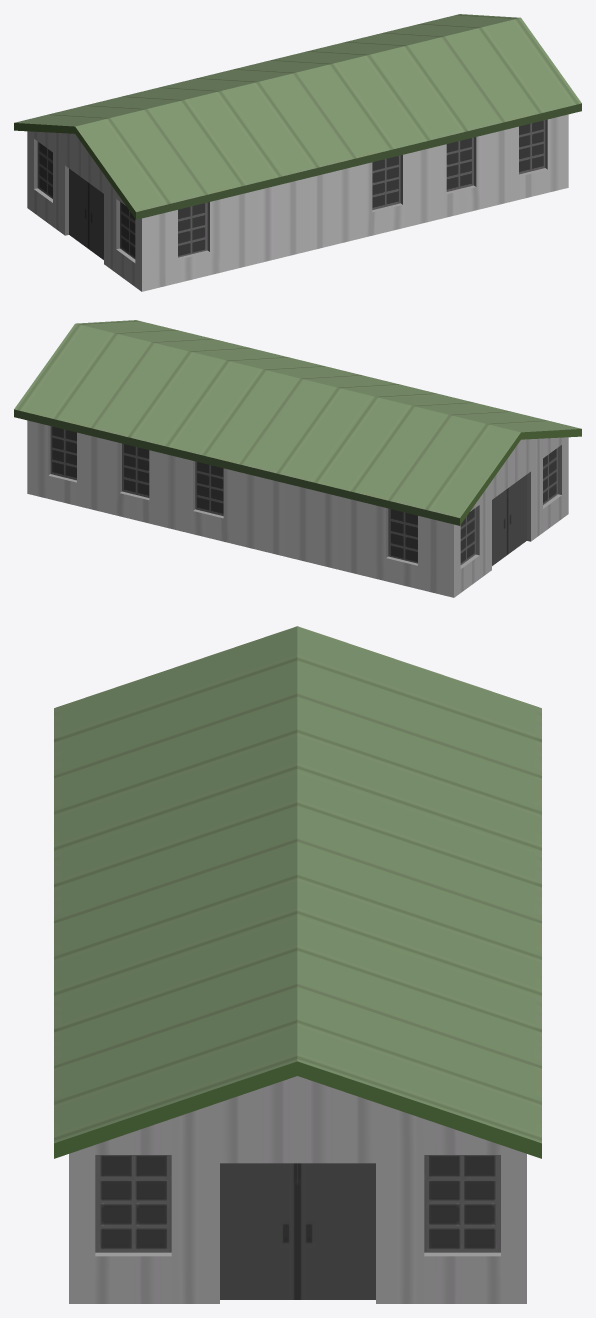
The model's file is MHouse.fbx.
3 renders of one model, top to bottom at view 1: azimuth 30°, elevation 25°; view 2: azimuth 150°, elevation 25°; view 3: azimuth 270°, elevation 25°, orthographic. The views are drawn at different scales.
Parts seen in each view (by area): view 1: MHouse; view 2: MHouse; view 3: MHouse.
Boxes of the visible parts, <box> form: MHouse: <box>14,14,581,291</box>; MHouse: <box>14,320,581,597</box>; MHouse: <box>54,626,541,1303</box>.
Size of the model in its own units: 7.17 by 1.93 by 3.4.
